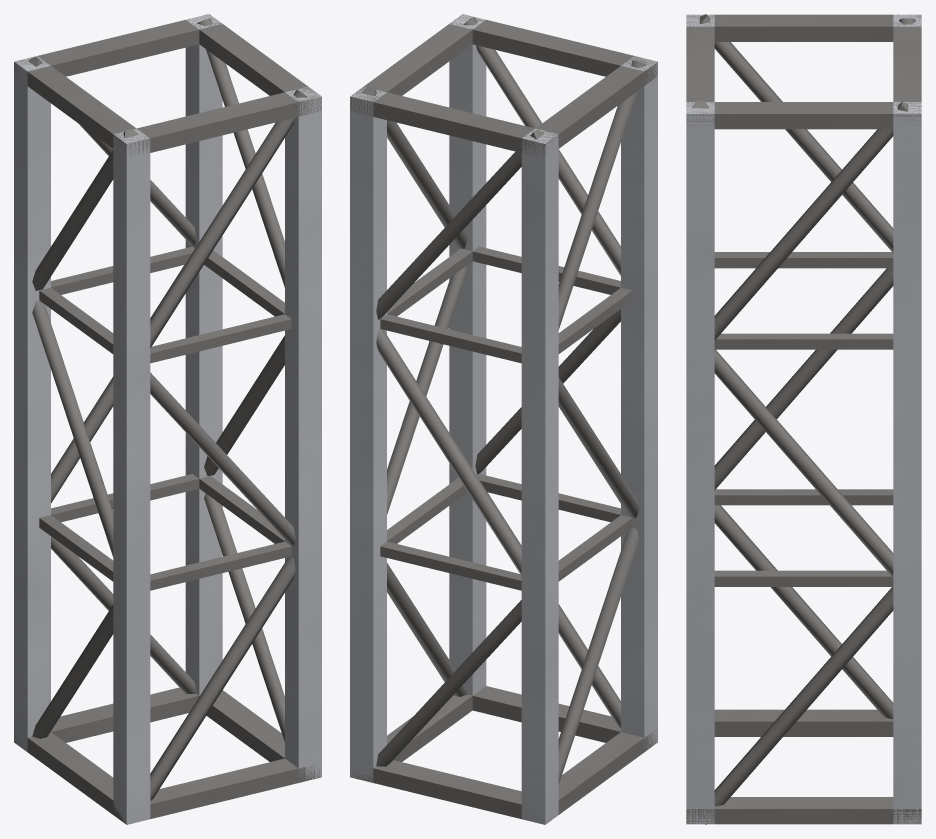
Rendered from struct00_box_girder_xs_1.glb.
The picture shows the model from 3 angles, left to right: view 1: azimuth 30°, elevation 25°; view 2: azimuth 150°, elevation 25°; view 3: azimuth 270°, elevation 25°; orthographic projection. The views are drawn at different scales.
Visible parts, largest first — view 1: longerons, lacing, end_frames; view 2: longerons, lacing, end_frames; view 3: longerons, lacing, end_frames.
Boxes of the visible parts, x1,y1,x2,y2 form: longerons: [14, 14, 321, 824]; lacing: [28, 18, 307, 800]; end_frames: [14, 14, 321, 824]; longerons: [350, 14, 657, 824]; lacing: [361, 17, 646, 784]; end_frames: [350, 14, 657, 822]; longerons: [686, 14, 921, 824]; lacing: [692, 14, 915, 824]; end_frames: [686, 14, 921, 824].
Size of the model in its own units: 0.3 by 1.01 by 0.3.
Materials: 2 (2 with a texture image).
